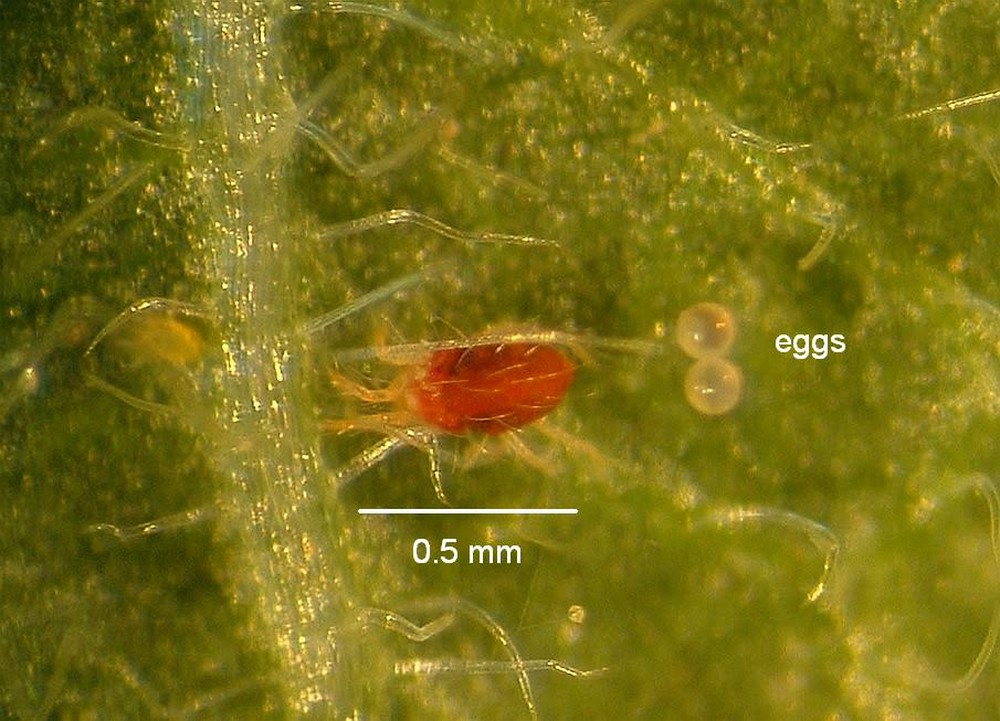Aracnido Rojo: (319, 290, 614, 489)
